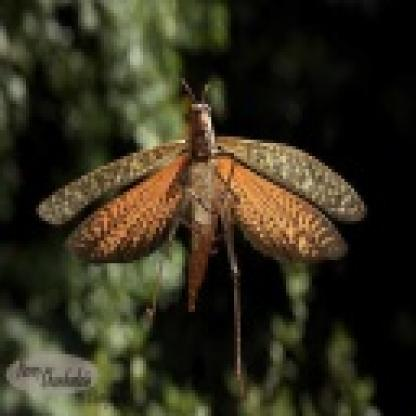grasshopper: (35, 81, 361, 316)
